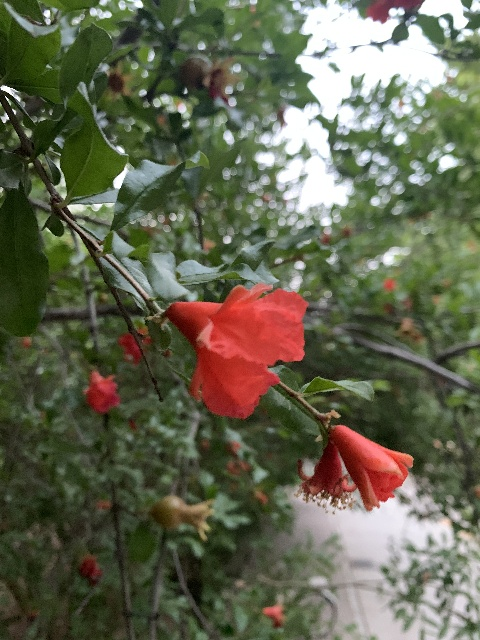early-fruit: (179, 55, 243, 103), (150, 494, 214, 542)
flower: (165, 282, 308, 420), (329, 424, 413, 512), (296, 440, 357, 513), (82, 370, 120, 414), (118, 332, 148, 365), (79, 552, 102, 580), (263, 603, 286, 627)
